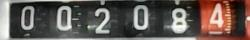digits: (169, 8, 190, 32), (94, 7, 110, 34), (208, 2, 224, 28), (132, 4, 148, 29), (56, 5, 71, 30), (20, 5, 34, 29)
